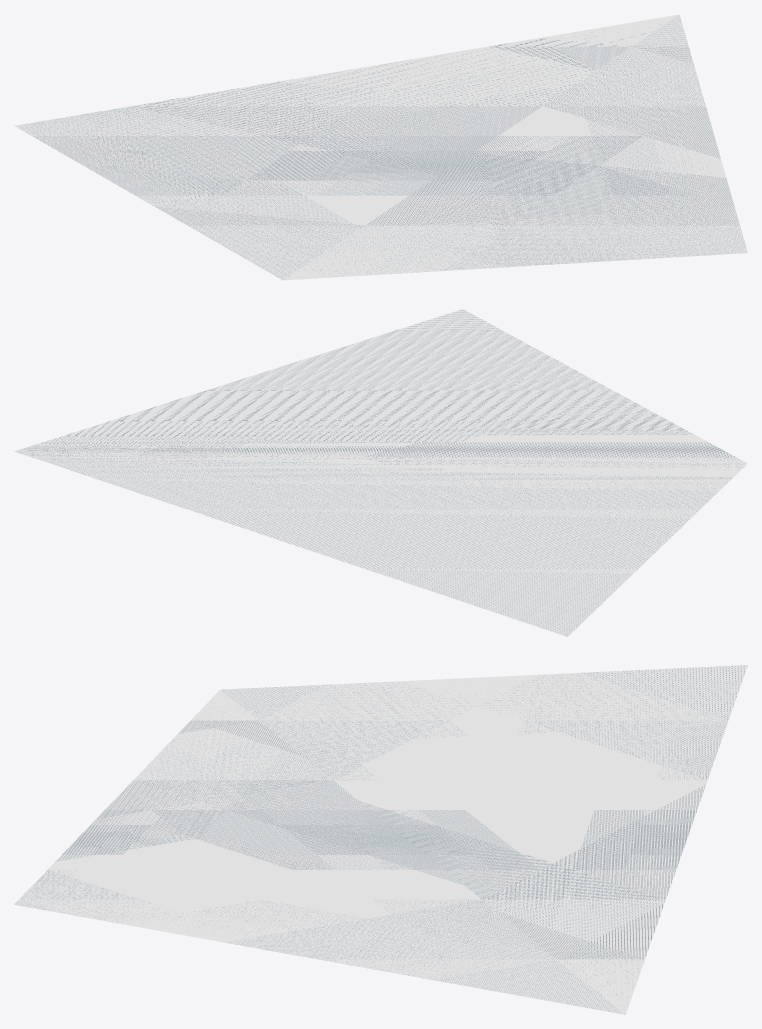
3 renders of one model, top to bottom at view 1: azimuth 30°, elevation 25°; view 2: azimuth 150°, elevation 25°; view 3: azimuth 270°, elevation 25°, orthographic. The views are drawn at different scales.
Parts seen in each view (by area): view 1: Group1; view 2: Group1; view 3: Group1.
Part boxes in pixels (x1,y1,x2,y2): Group1: (14, 14, 747, 280); Group1: (14, 309, 747, 636); Group1: (14, 665, 747, 1014).
Size of the model in its own units: 3.56 by 0 by 3.16.
